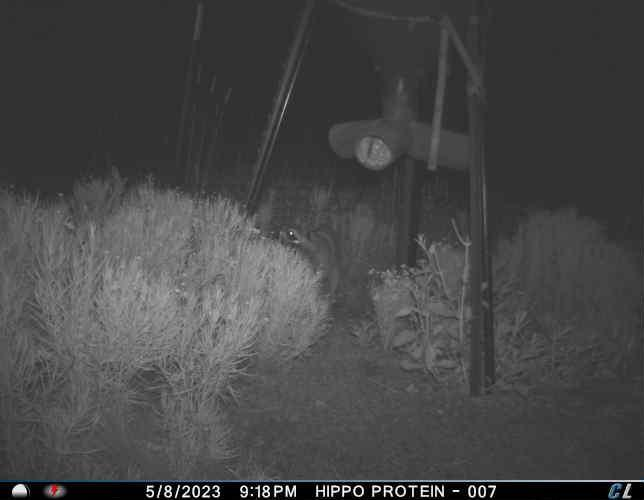Raccoon: (278, 218, 345, 305)
